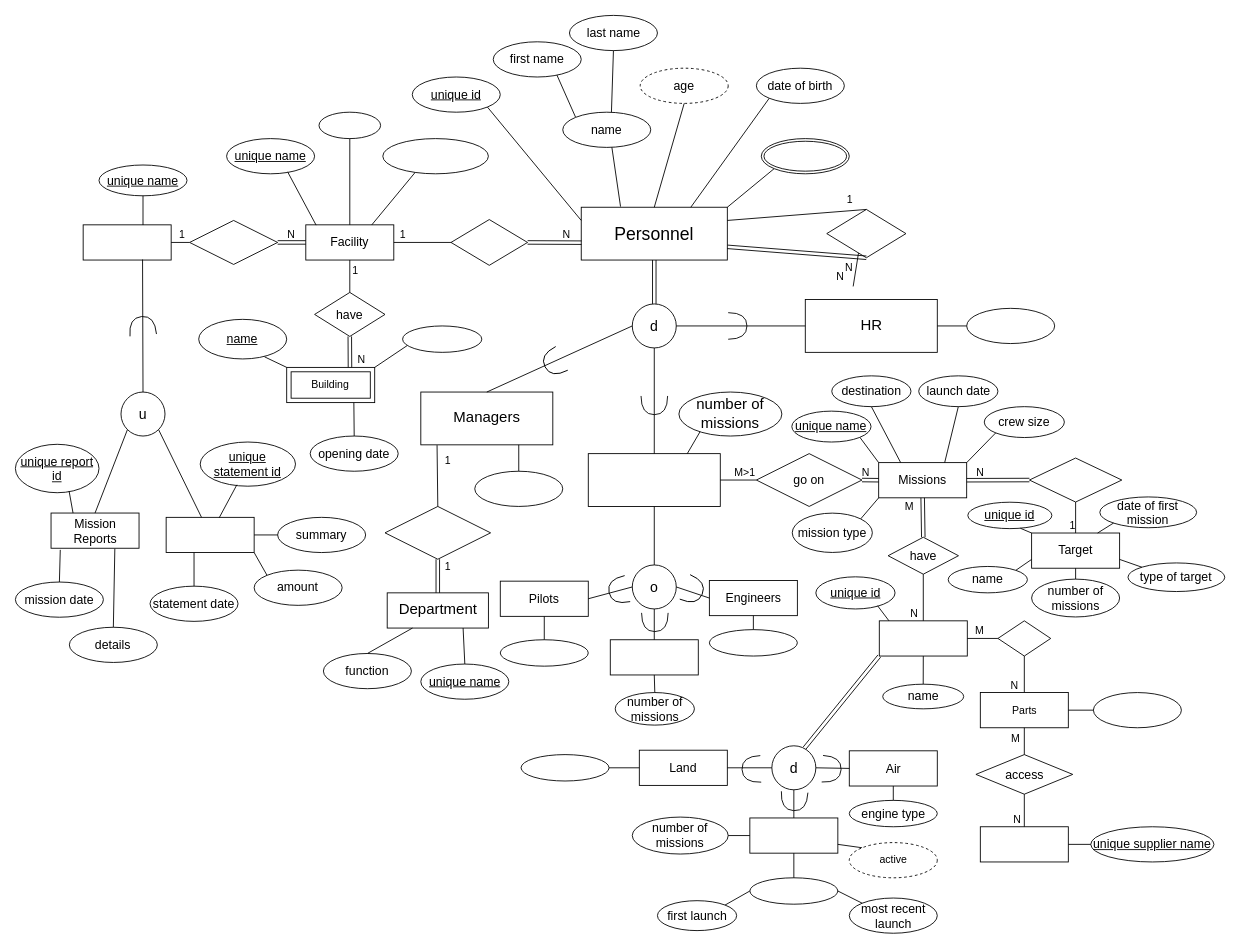
The diagram is 1241 pixels wide and 949 high, and some of its shapes have lost their labels. The shapes that lost their labels are listed below. From the top down, each one's centre as x and y in pixels, then its label:
the point at 349,125: state
the point at 435,156: main operation
the point at 804,156: email address
the point at 126,242: Server
the point at 233,242: store data
the point at 489,242: work in
the point at 866,233: reports
the point at 442,338: type
the point at 1010,325: job title
the point at 518,488: military rank
the point at 653,479: Astronauts
the point at 1075,479: designated
the point at 209,534: Bank Statements
the point at 437,532: manages
the point at 543,652: flying hours
the point at 653,657: Commanders
the point at 752,642: speciality
the point at 922,638: Vehicles
the point at 1024,638: use
the point at 1137,710: unique part number
the point at 564,767: wheel type
the point at 793,835: Space
the point at 1023,844: Suppliers
the point at 793,890: service date
